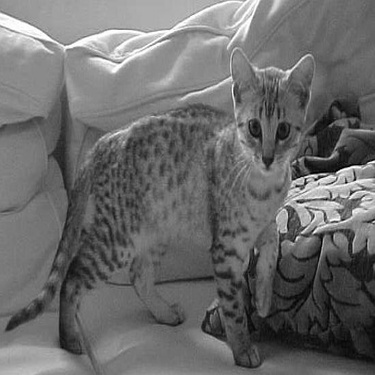cat: (10, 50, 315, 347)
